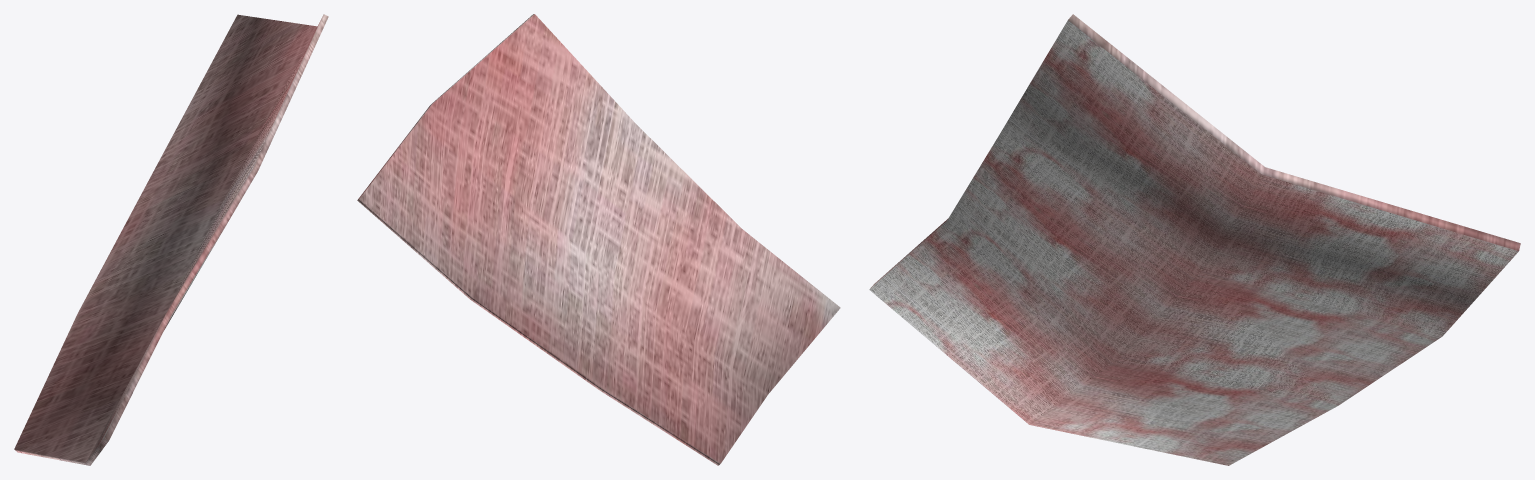
The model's file is Blendshape Gauge.fbx.
The picture shows the model from 3 angles, left to right: view 1: azimuth 30°, elevation 25°; view 2: azimuth 150°, elevation 25°; view 3: azimuth 270°, elevation 25°; orthographic projection. The views are drawn at different scales.
Visible parts, largest first — view 1: Wolf3D_Body.001; view 2: Wolf3D_Body.001; view 3: Wolf3D_Body.001.
Part boxes in pixels (box(x1,y1,x2,y2)): Wolf3D_Body.001: box(14, 14, 328, 465); Wolf3D_Body.001: box(357, 14, 840, 465); Wolf3D_Body.001: box(869, 14, 1520, 465).
Size of the model in its own units: 6.96 by 8.01 by 7.29.
Materials: 1 (1 with a texture image).
